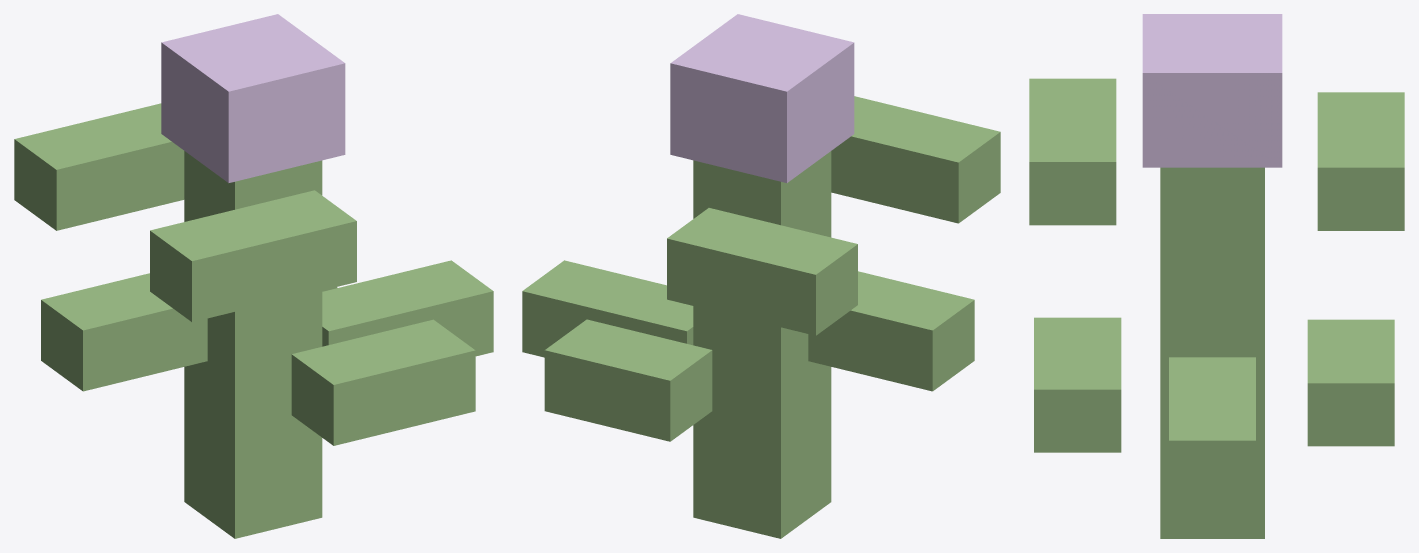
File: Prop_Herb_AMF_Dozeleaf_V4.glb
3 views of the same model, side by side, from view 1: azimuth 30°, elevation 25°; view 2: azimuth 150°, elevation 25°; view 3: azimuth 270°, elevation 25° (orthographic). The views are drawn at different scales.
Parts seen in each view (by area): view 1: Prop_Herb_AMF_Dozeleaf_V4; view 2: Prop_Herb_AMF_Dozeleaf_V4; view 3: Prop_Herb_AMF_Dozeleaf_V4.
Part boxes in pixels (left/top/right/bottom): Prop_Herb_AMF_Dozeleaf_V4: left=14, top=14, right=493, bottom=538; Prop_Herb_AMF_Dozeleaf_V4: left=522, top=14, right=1000, bottom=538; Prop_Herb_AMF_Dozeleaf_V4: left=1029, top=14, right=1404, bottom=538.
Bounding box in the file's own units: 0.2816 × 0.2996 × 0.2153.
